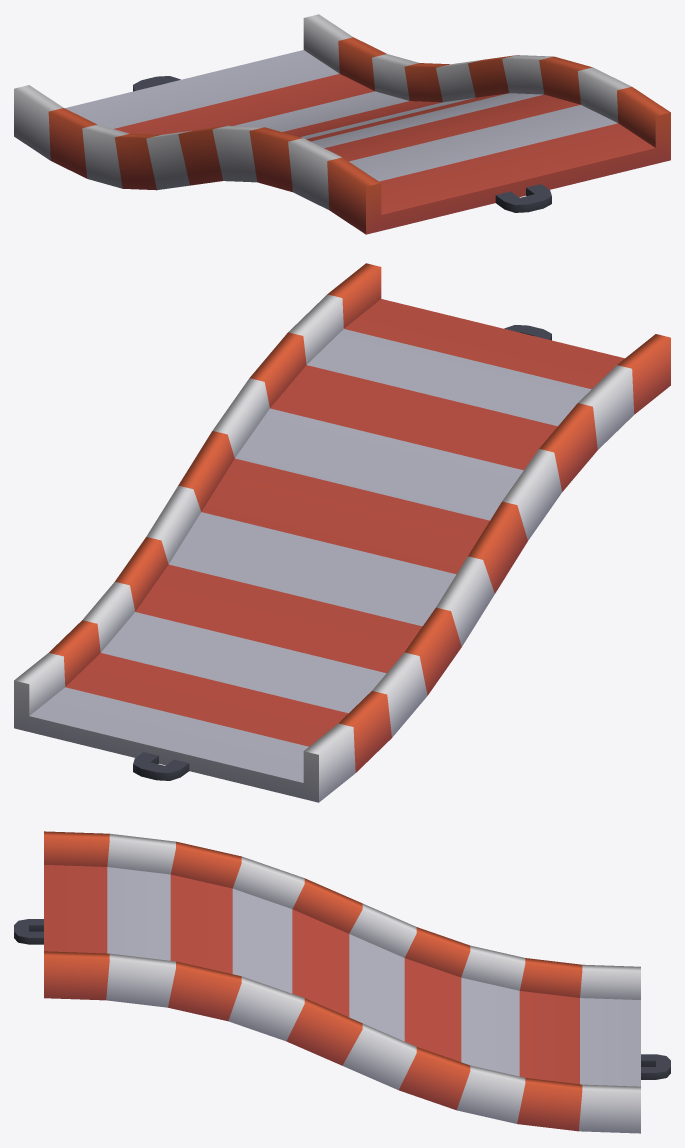
Rendered from track-striped-wide-straight-hill-complete.glb.
The picture shows the model from 3 angles, top to bottom: view 1: azimuth 30°, elevation 25°; view 2: azimuth 150°, elevation 25°; view 3: azimuth 270°, elevation 25°; orthographic projection. The views are drawn at different scales.
Parts seen in each view (by area): view 1: track-striped-wide-straight-hill-complete; view 2: track-striped-wide-straight-hill-complete; view 3: track-striped-wide-straight-hill-complete.
Boxes of the visible parts, x1=… form: track-striped-wide-straight-hill-complete: x1=14, y1=14, x2=670, y2=234; track-striped-wide-straight-hill-complete: x1=14, y1=263, x2=670, y2=802; track-striped-wide-straight-hill-complete: x1=14, y1=831, x2=670, y2=1133.
Bounding box in the file's own units: 2 × 1.3 × 4.4.
